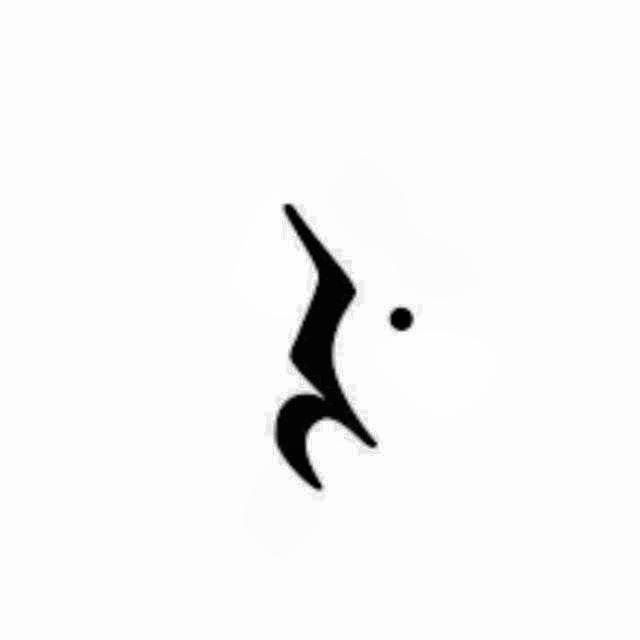Quarter-rest: (248, 193, 420, 503)
